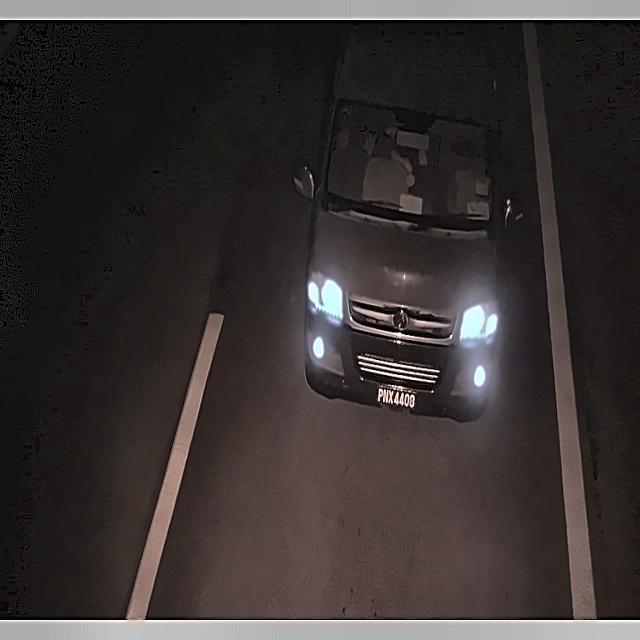car: (369, 378, 423, 419)
